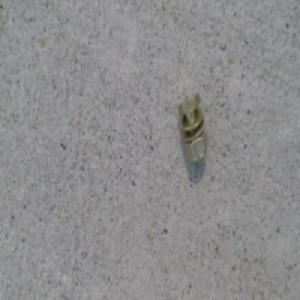BoltNutSet: (176, 91, 206, 164)
